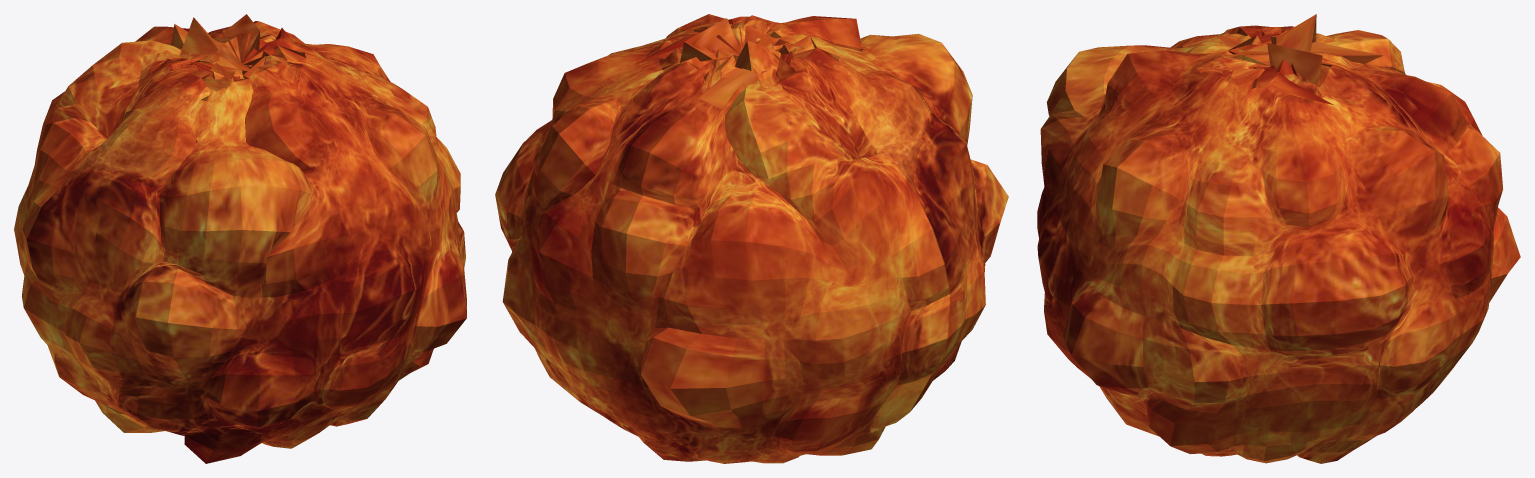
The model's file is fire2.fbx.
The picture shows the model from 3 angles, left to right: view 1: azimuth 30°, elevation 25°; view 2: azimuth 150°, elevation 25°; view 3: azimuth 270°, elevation 25°; orthographic projection. The views are drawn at different scales.
Parts seen in each view (by area): view 1: Sphere.001; view 2: Sphere.001; view 3: Sphere.001.
Boxes of the visible parts, x1,y1,x2,y2 form: Sphere.001: [14, 14, 466, 463]; Sphere.001: [495, 14, 1008, 463]; Sphere.001: [1037, 14, 1520, 463].
Size of the model in its own units: 106 by 101 by 107.
Materials: 1 (1 with a texture image).
